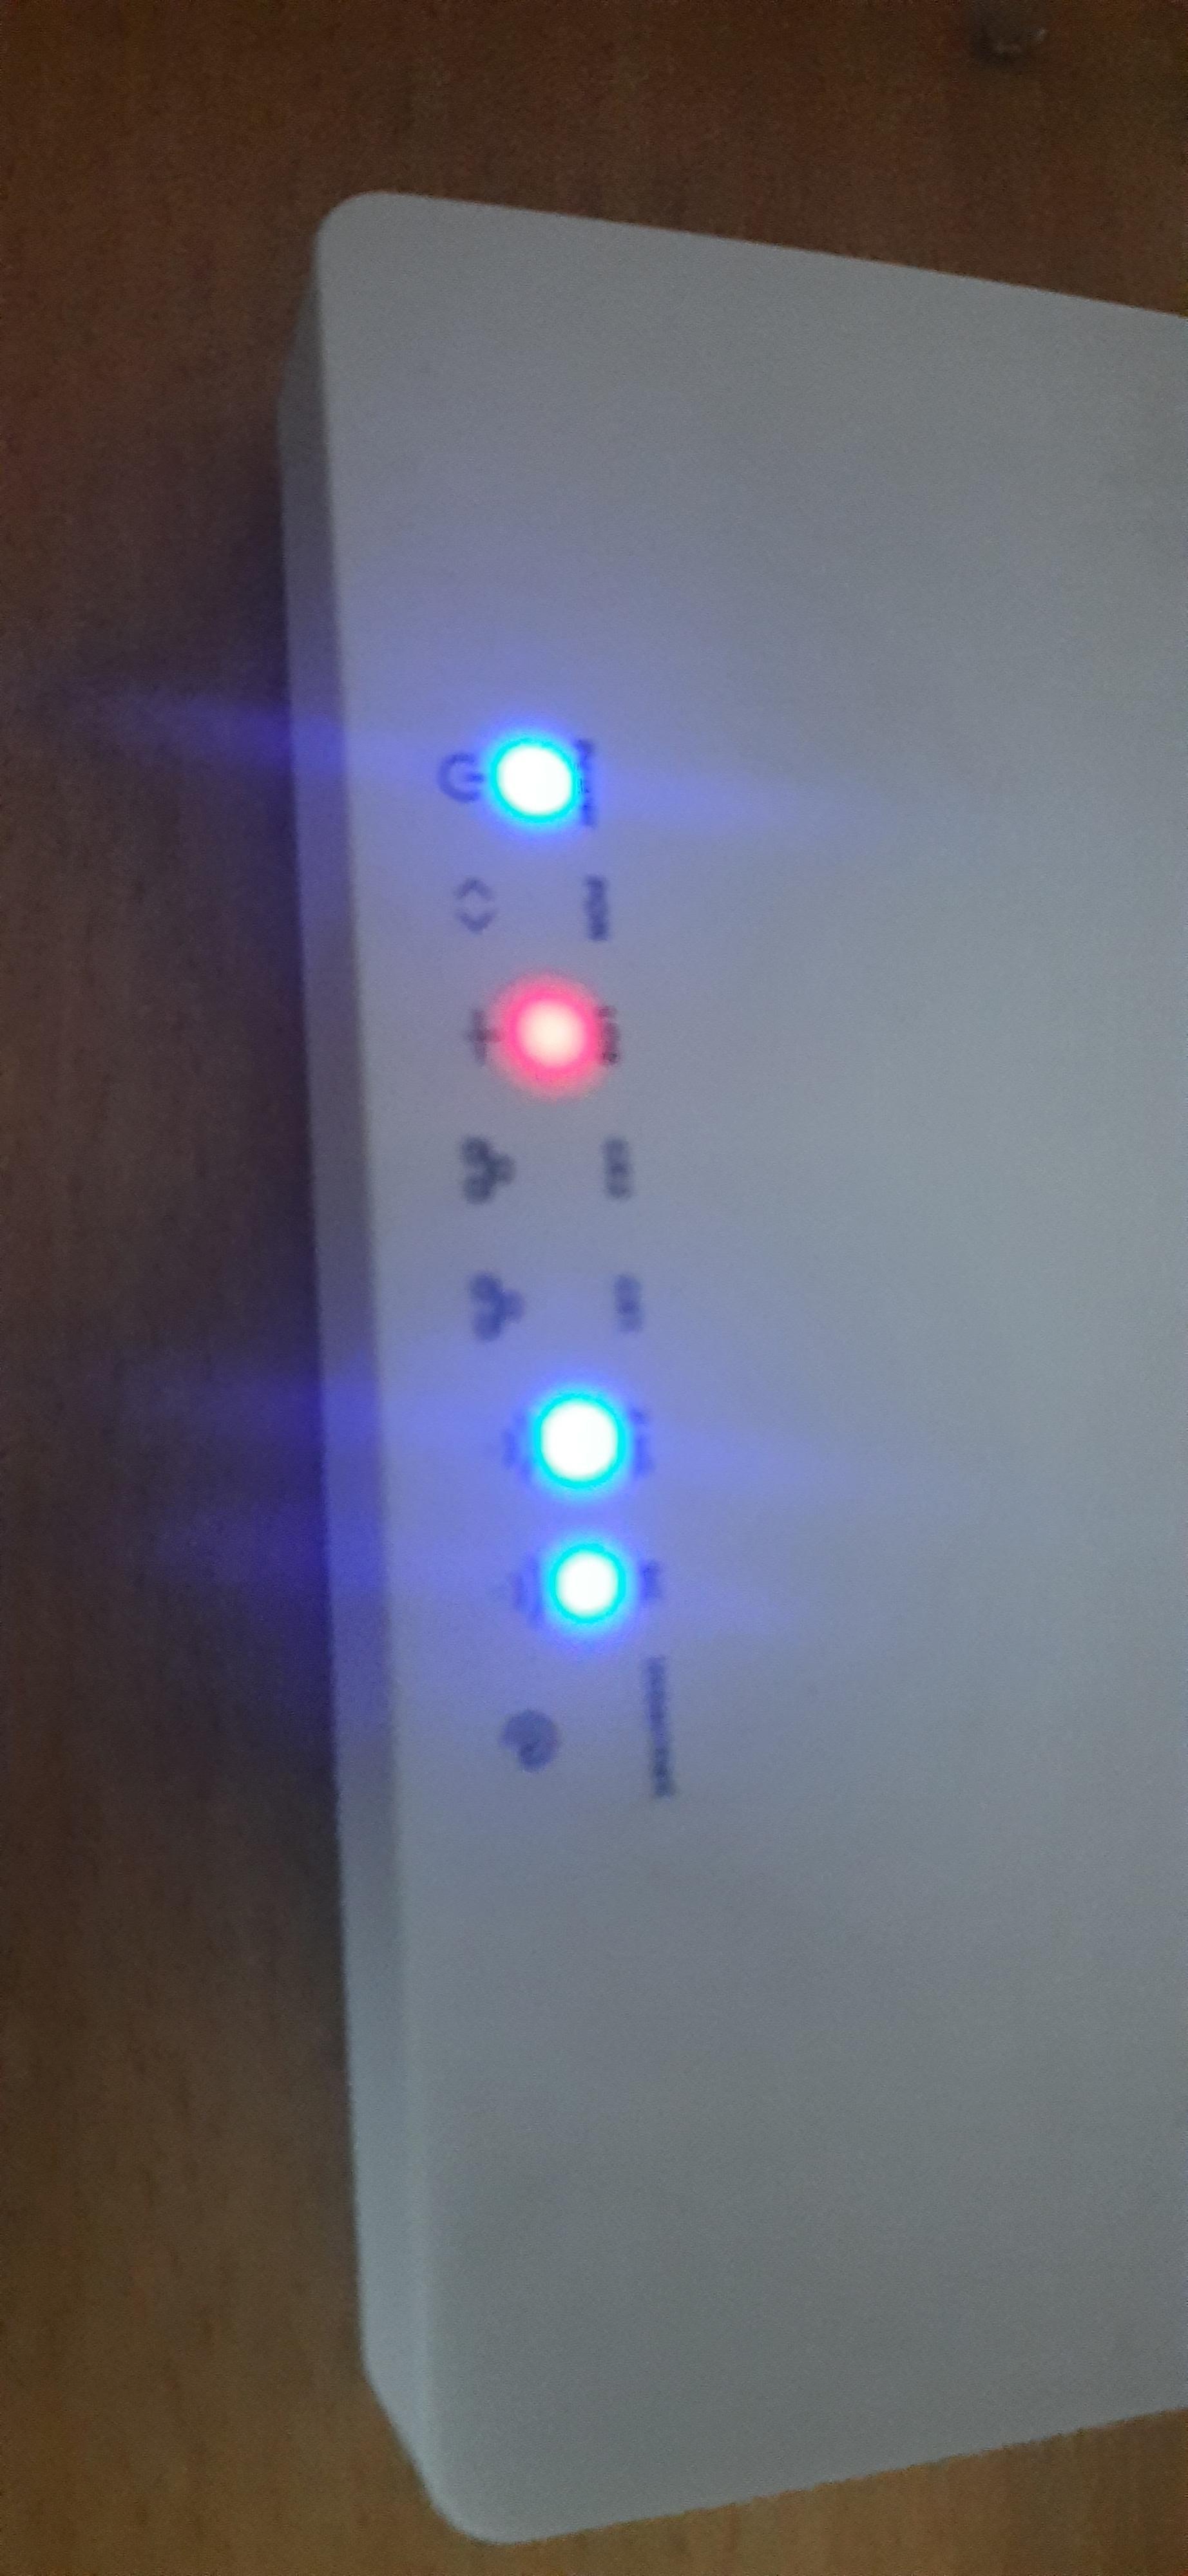LOSConnectionIssue: (417, 954, 695, 1106)
